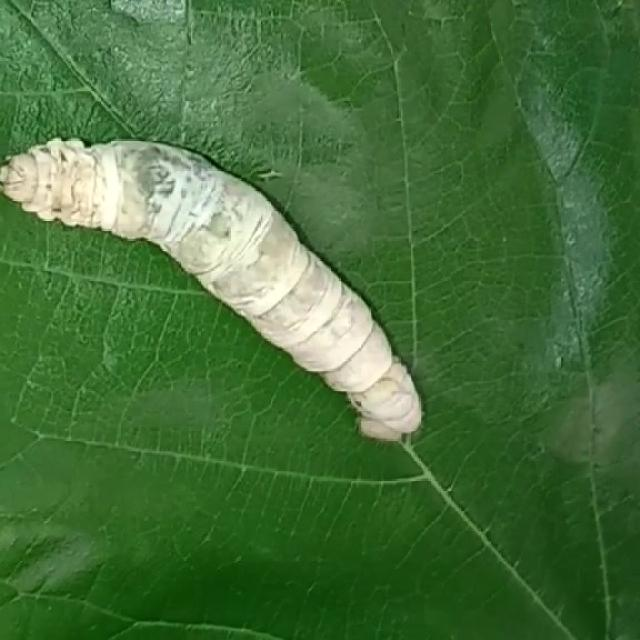Grasserie: (1, 111, 435, 463)
